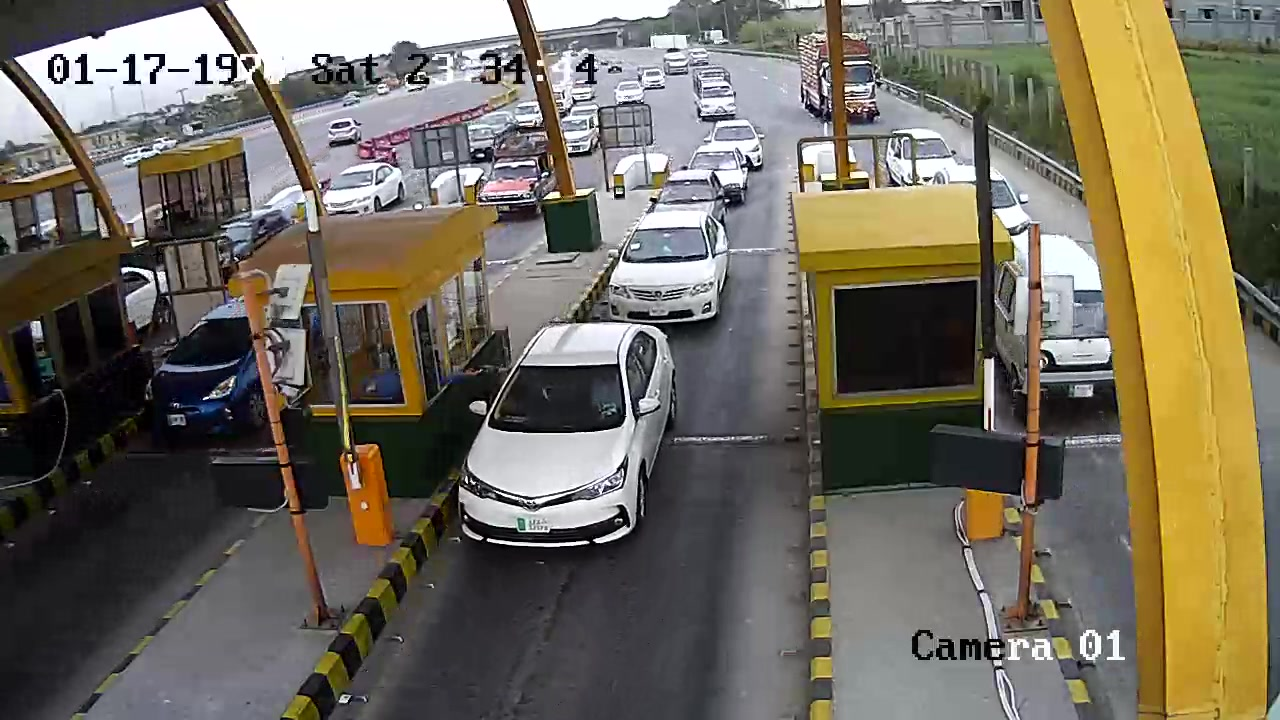F1: (462, 315, 705, 556), (600, 207, 739, 323)
